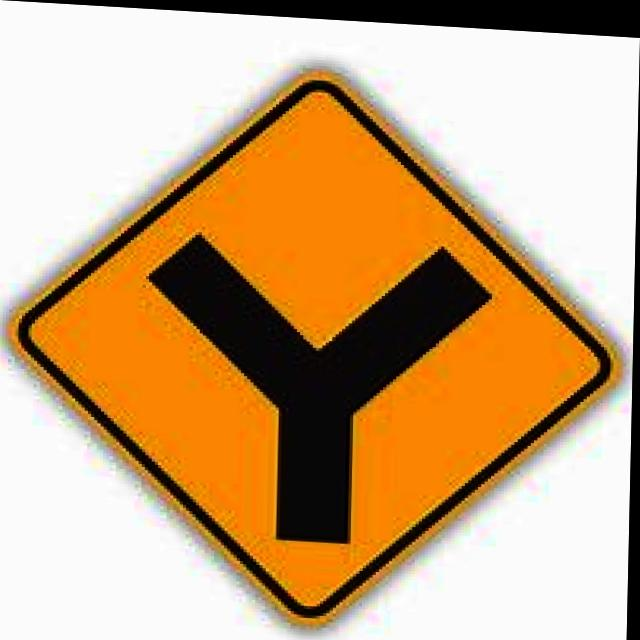Y_INTERSECTION: (0, 35, 639, 640)
